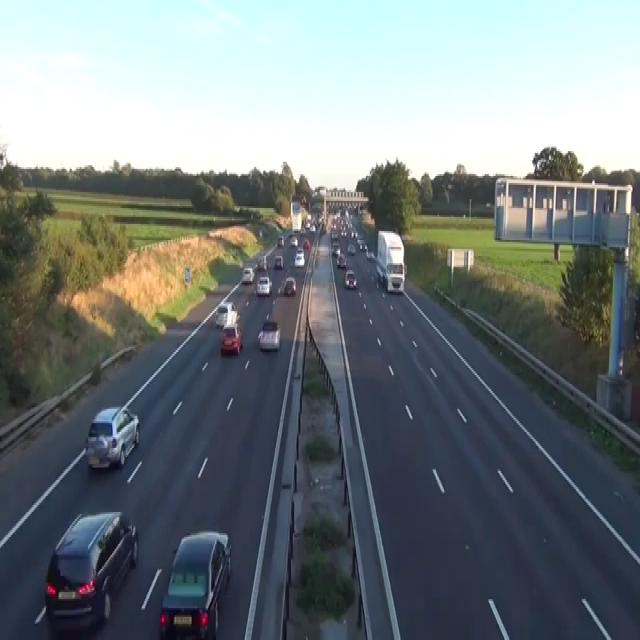Car: (44, 510, 138, 630), (158, 530, 231, 638), (84, 406, 140, 470), (257, 320, 280, 350), (220, 324, 242, 354), (214, 301, 238, 327), (256, 276, 272, 295), (344, 268, 357, 288), (283, 276, 296, 295), (241, 266, 254, 282), (294, 250, 304, 266), (257, 254, 267, 270), (336, 252, 346, 268), (277, 278, 285, 294), (274, 254, 283, 268), (331, 244, 340, 256), (358, 238, 366, 251), (365, 249, 375, 259), (277, 235, 284, 247), (290, 235, 298, 245), (347, 244, 355, 254), (303, 238, 310, 249), (331, 237, 339, 246), (317, 215, 323, 226), (296, 246, 304, 254), (309, 222, 316, 231), (331, 231, 338, 240), (340, 228, 346, 236), (300, 226, 305, 234), (259, 228, 262, 236)
Truck: (374, 230, 405, 294), (290, 199, 301, 231)
